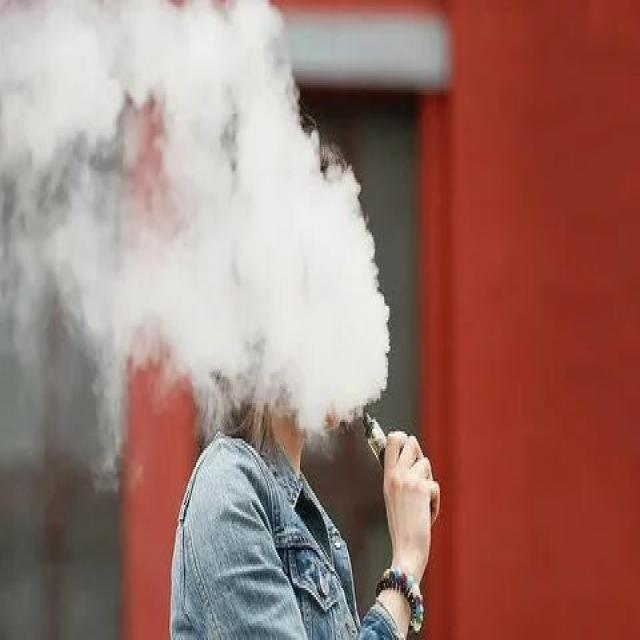smoke: (360, 403, 393, 476)
